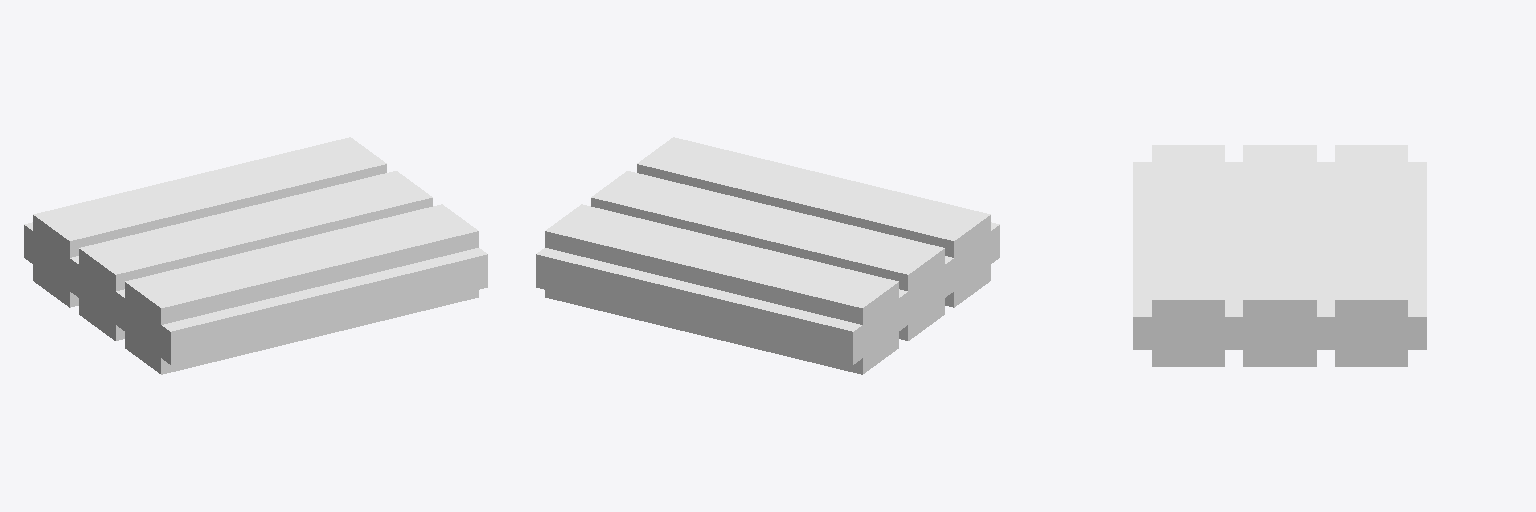
File: log.obj
The picture shows the model from 3 angles: view 1: azimuth 30°, elevation 25°; view 2: azimuth 150°, elevation 25°; view 3: azimuth 270°, elevation 25°; orthographic projection.
Size of the model in its own units: 20 by 4 by 16.